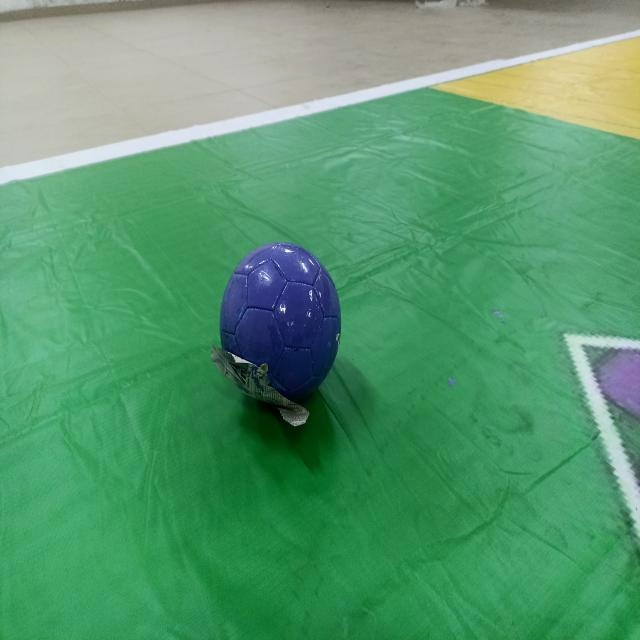purple_ball: (214, 229, 346, 426)
